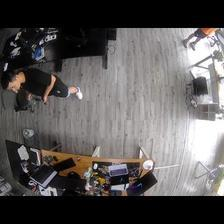normal: (1, 67, 83, 105)
